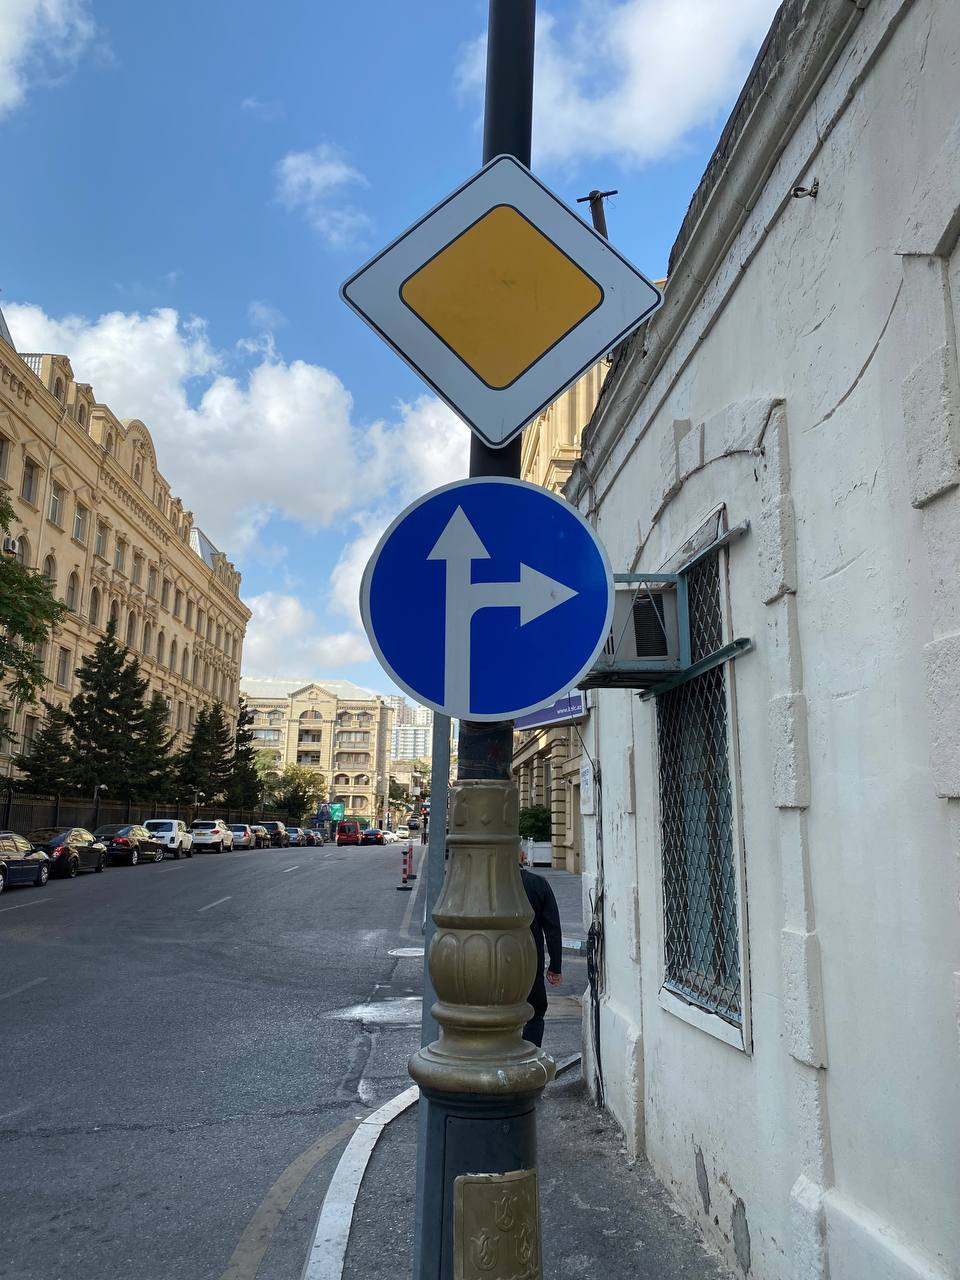Main Road: (338, 154, 665, 447)
Straight or Right: (358, 475, 614, 721)
